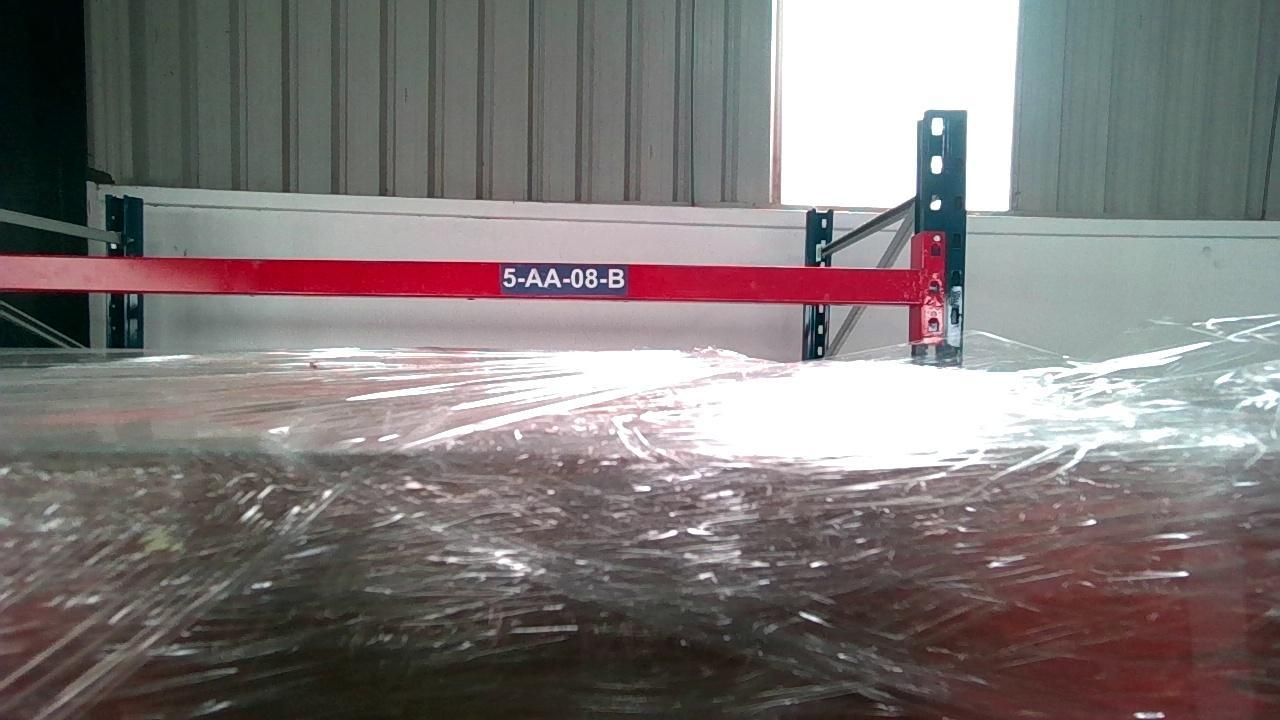h_rack: (0, 254, 926, 300)
